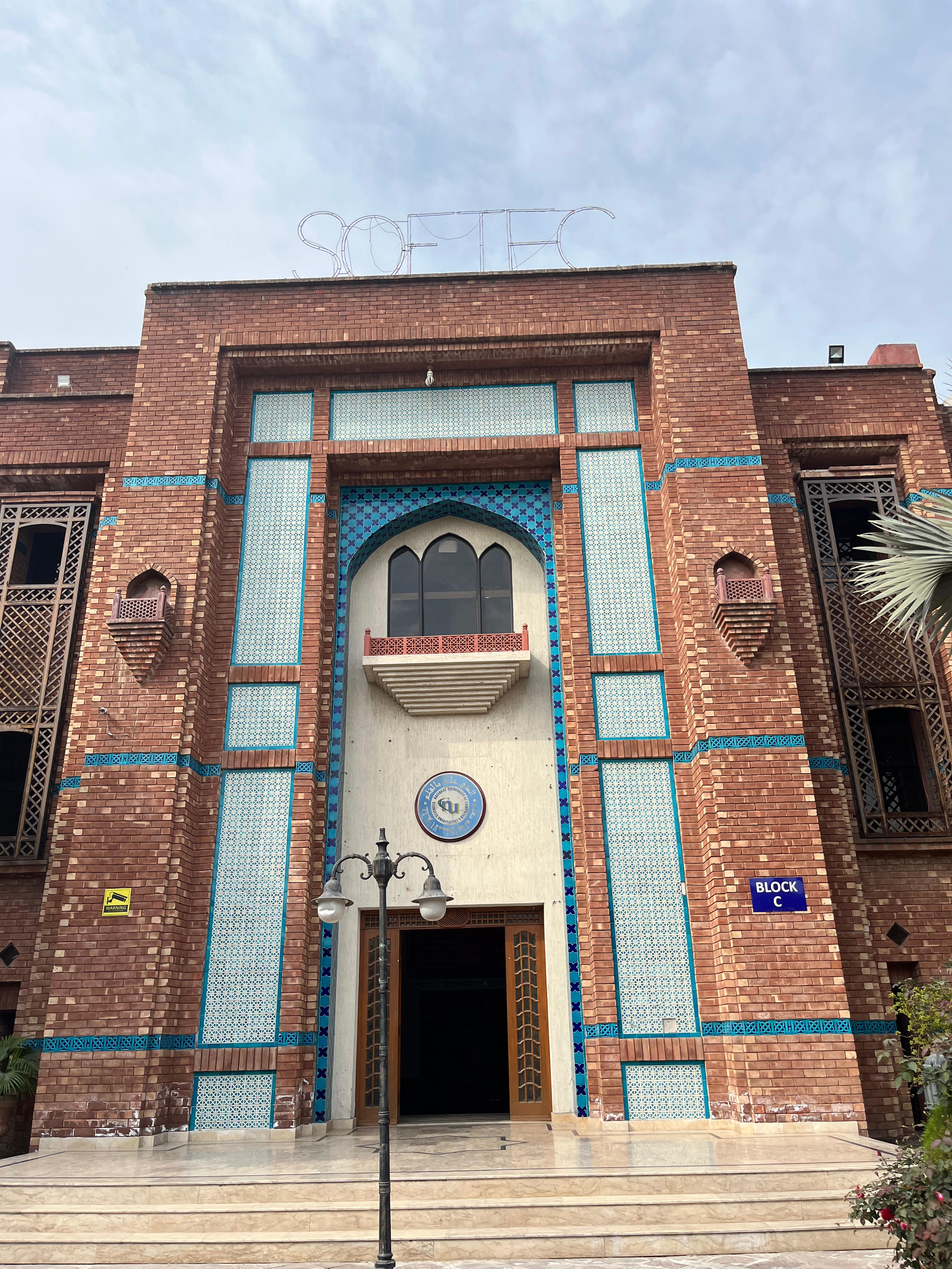Block C: (2, 212, 952, 1235)
